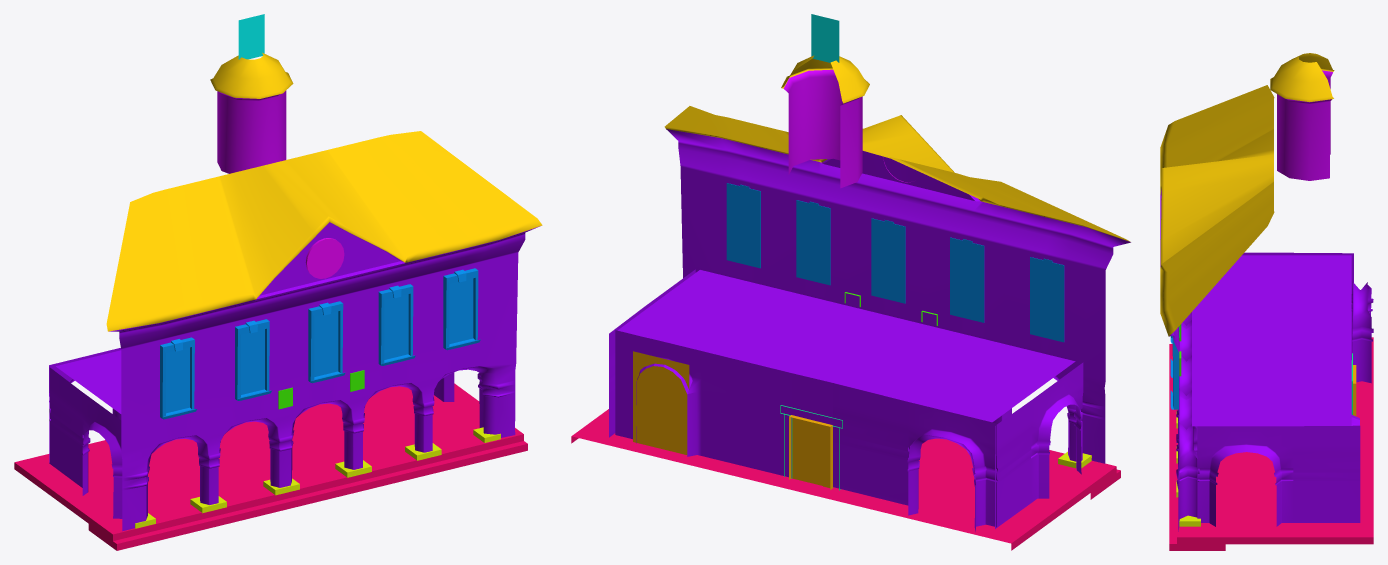
File: MainGuard_UV.fbx
3 renders of one model, left to right at view 1: azimuth 30°, elevation 25°; view 2: azimuth 150°, elevation 25°; view 3: azimuth 270°, elevation 25°, orthographic. The views are drawn at different scales.
Visible parts, largest first — view 1: polySurface40; view 2: polySurface40; view 3: polySurface40.
Part boxes in pixels (left/top/right/bottom): polySurface40: left=14, top=14, right=542, bottom=550; polySurface40: left=571, top=14, right=1130, bottom=550; polySurface40: left=1160, top=53, right=1373, bottom=550.
Bounding box in the file's own units: 23.16 × 21.97 × 9.88.
